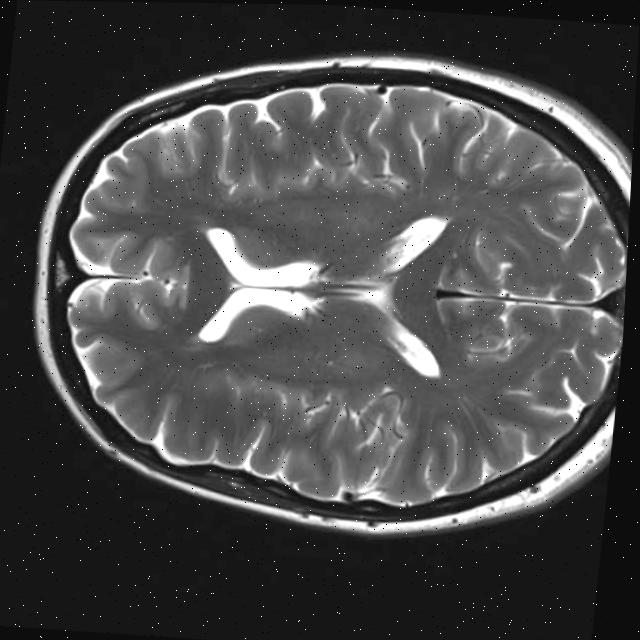NoTumor: (5, 23, 639, 556)
